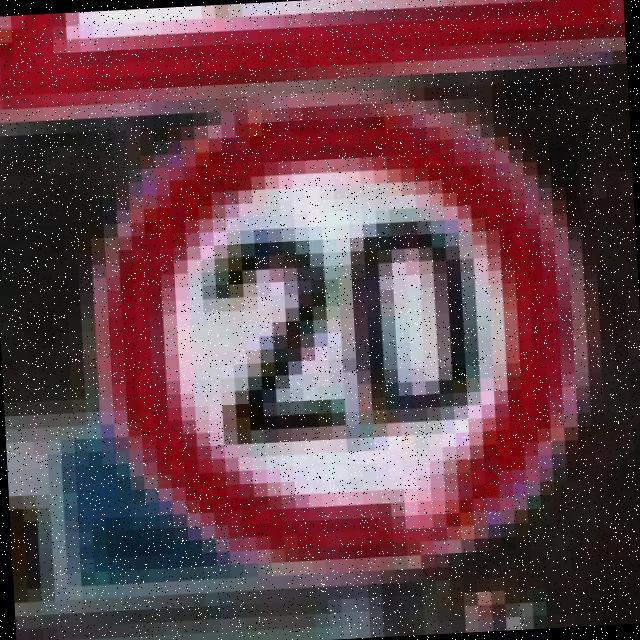Ograniczenie predkosci do 20: (71, 74, 627, 598)
